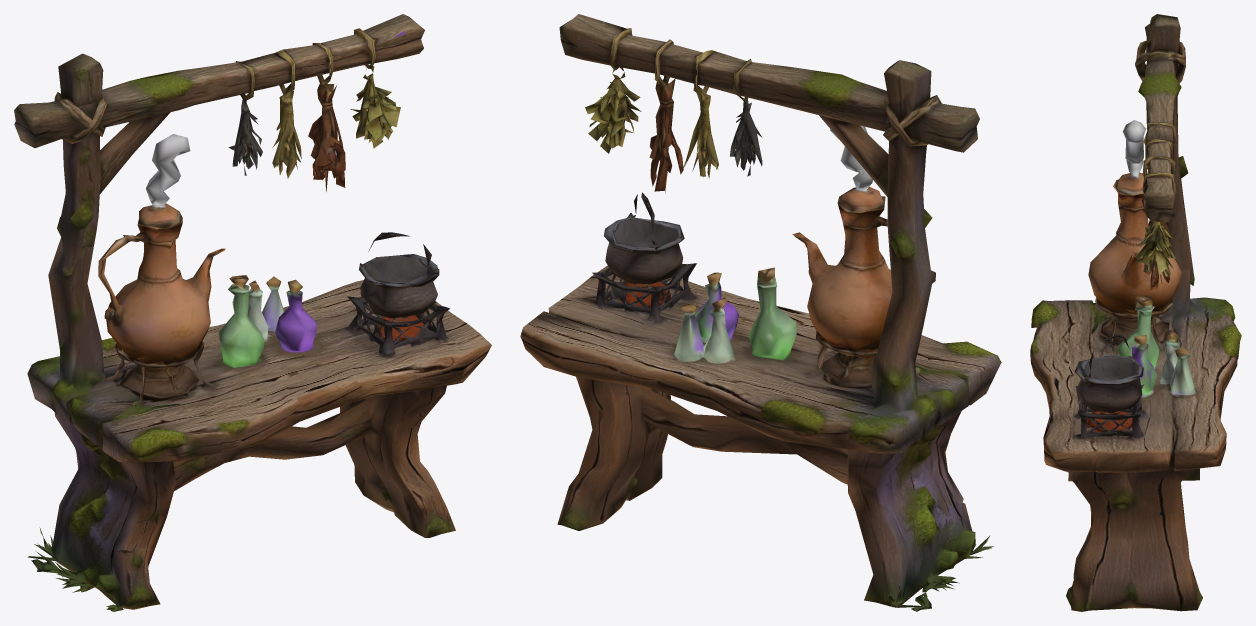
The model's file is town_station_alchemy_table.glb.
The picture shows the model from 3 angles, left to right: view 1: azimuth 30°, elevation 25°; view 2: azimuth 150°, elevation 25°; view 3: azimuth 270°, elevation 25°; orthographic projection. The views are drawn at different scales.
Visible parts, largest first — view 1: tripo_node_271103c7-fc35-4f2b-b3a0-23eca98d8357; view 2: tripo_node_271103c7-fc35-4f2b-b3a0-23eca98d8357; view 3: tripo_node_271103c7-fc35-4f2b-b3a0-23eca98d8357.
Boxes of the visible parts, x1,y1,x2,y2 form: tripo_node_271103c7-fc35-4f2b-b3a0-23eca98d8357: (14, 14, 491, 611); tripo_node_271103c7-fc35-4f2b-b3a0-23eca98d8357: (520, 14, 1001, 611); tripo_node_271103c7-fc35-4f2b-b3a0-23eca98d8357: (1030, 14, 1241, 611).
Bounding box in the file's own units: 2.17 × 2.6 × 1.09.
1 material, 1 textured.
